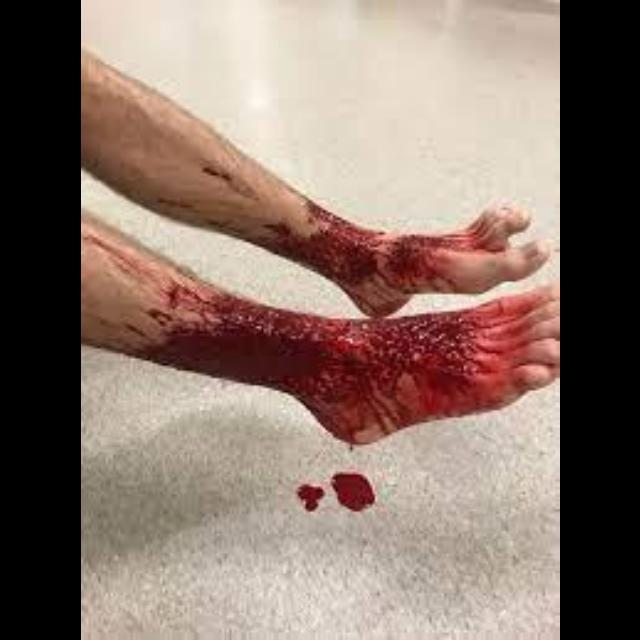blood: (141, 284, 559, 444), (253, 200, 475, 318), (332, 474, 377, 513), (297, 487, 325, 513)
